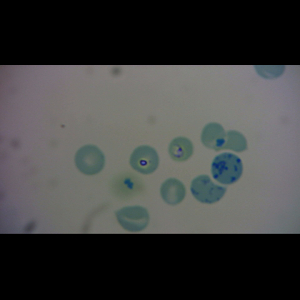aggregate reticulocyte: (189, 174, 228, 205), (210, 152, 245, 186)
erythrocyte: (113, 205, 150, 232), (74, 145, 106, 176), (129, 145, 160, 175), (213, 129, 249, 153), (200, 122, 228, 150), (160, 178, 187, 207), (167, 136, 195, 163)
